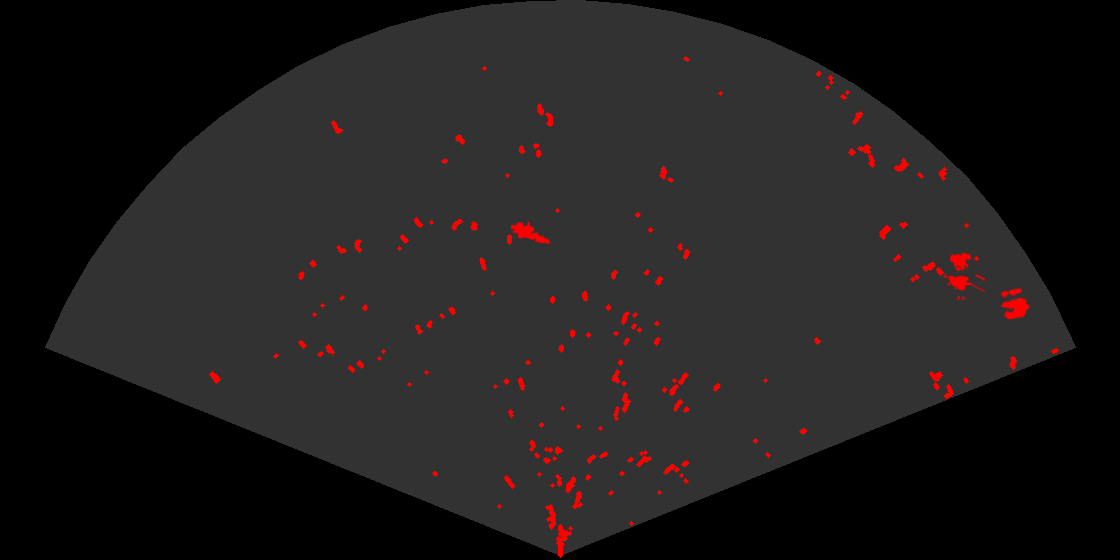ball: (999, 286, 1031, 321)
cage: (942, 251, 985, 300)
frogman: (511, 220, 551, 246)
